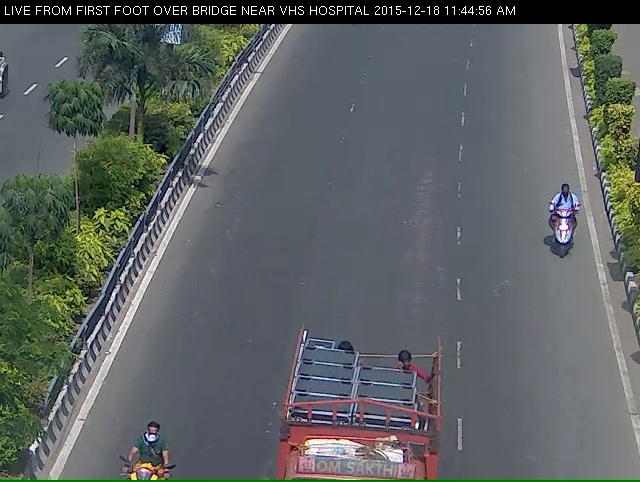Person: (538, 186, 584, 273)
